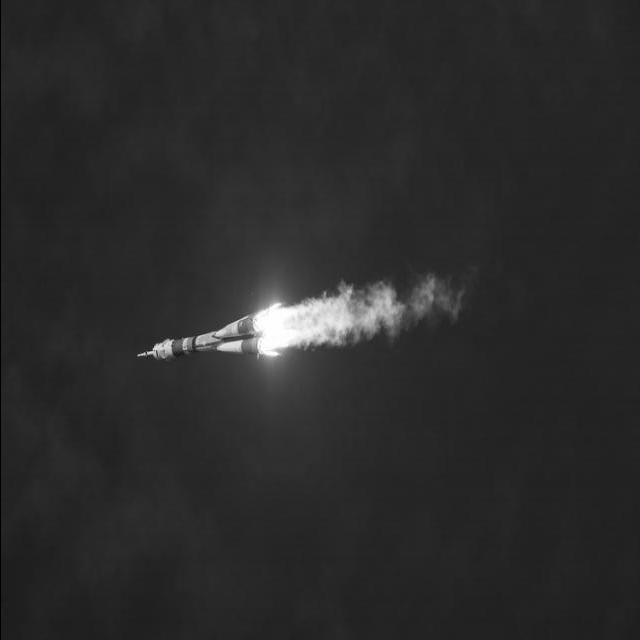missile: (133, 332, 217, 361)
